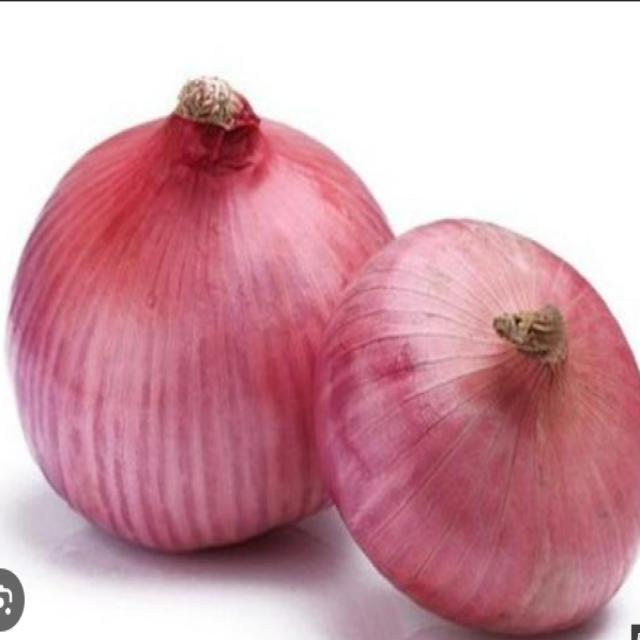healthy: (7, 79, 639, 630), (11, 80, 391, 549), (316, 220, 639, 633)
